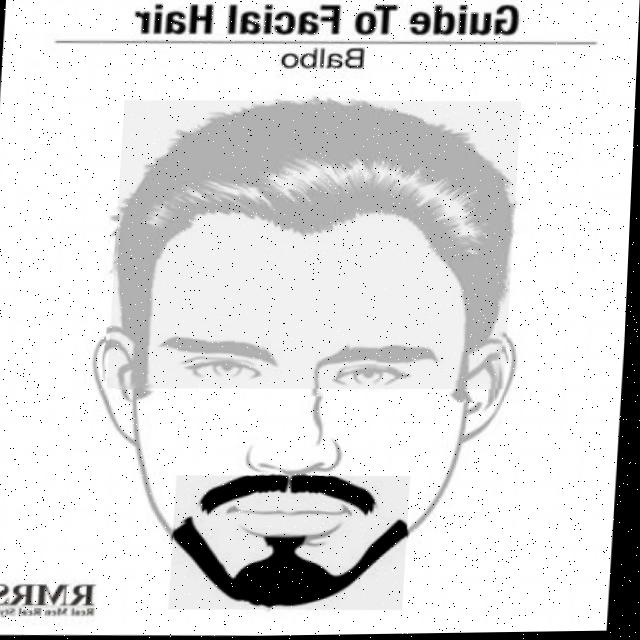beard: (177, 476, 411, 609)
hair: (117, 101, 516, 388)
